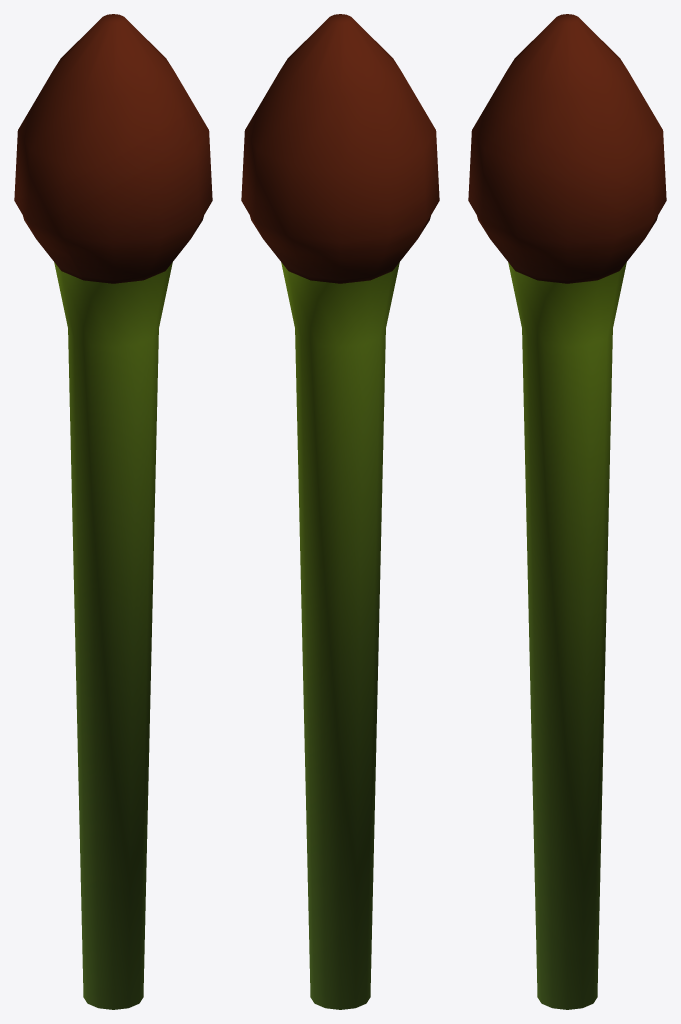
The model's file is Spidelilie_Stage2.glb.
The picture shows the model from 3 angles, left to right: view 1: azimuth 30°, elevation 25°; view 2: azimuth 150°, elevation 25°; view 3: azimuth 270°, elevation 25°; orthographic projection.
Visible parts, largest first — view 1: StemStage2.002; view 2: StemStage2.002; view 3: StemStage2.002.
Part boxes in pixels (box(x1,y1,x2,y2)): StemStage2.002: box(14, 14, 212, 1009); StemStage2.002: box(241, 14, 439, 1009); StemStage2.002: box(468, 14, 666, 1009).
Size of the model in its own units: 0.1966 by 1.07 by 0.1966.
Materials: 1 (1 with a texture image).
